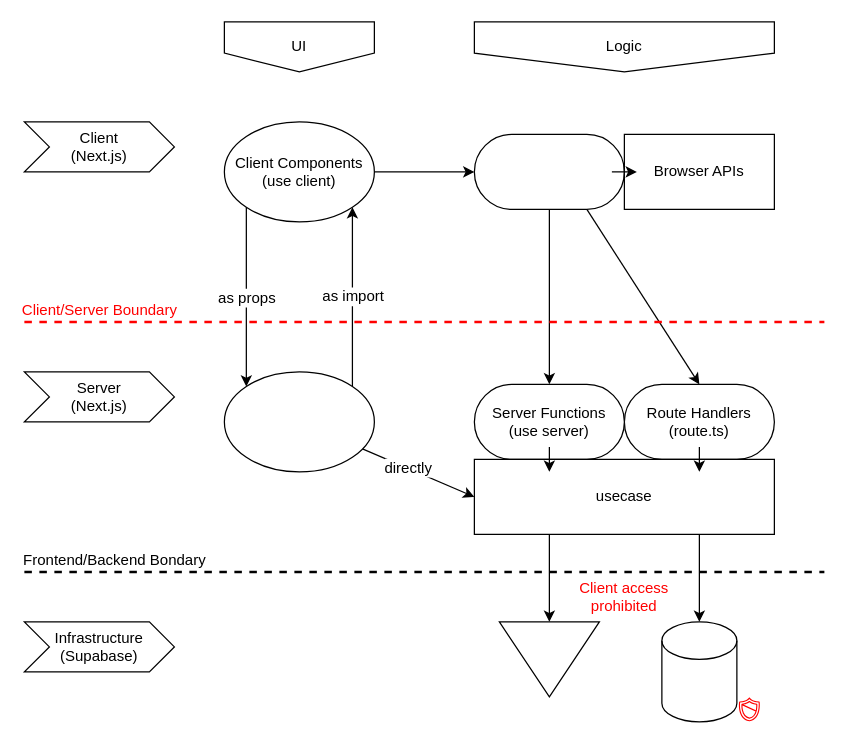
Image size: 849x744. Some labels were removed from this diagram. Here are the shapes that lost their labels. From the top down, the centre of each, then its label:
the point at 548,171: Hooks, Event Handlers
the point at 298,421: Server Components
the point at 548,659: Auth
the point at 699,671: Database
the point at 748,708: RLS
